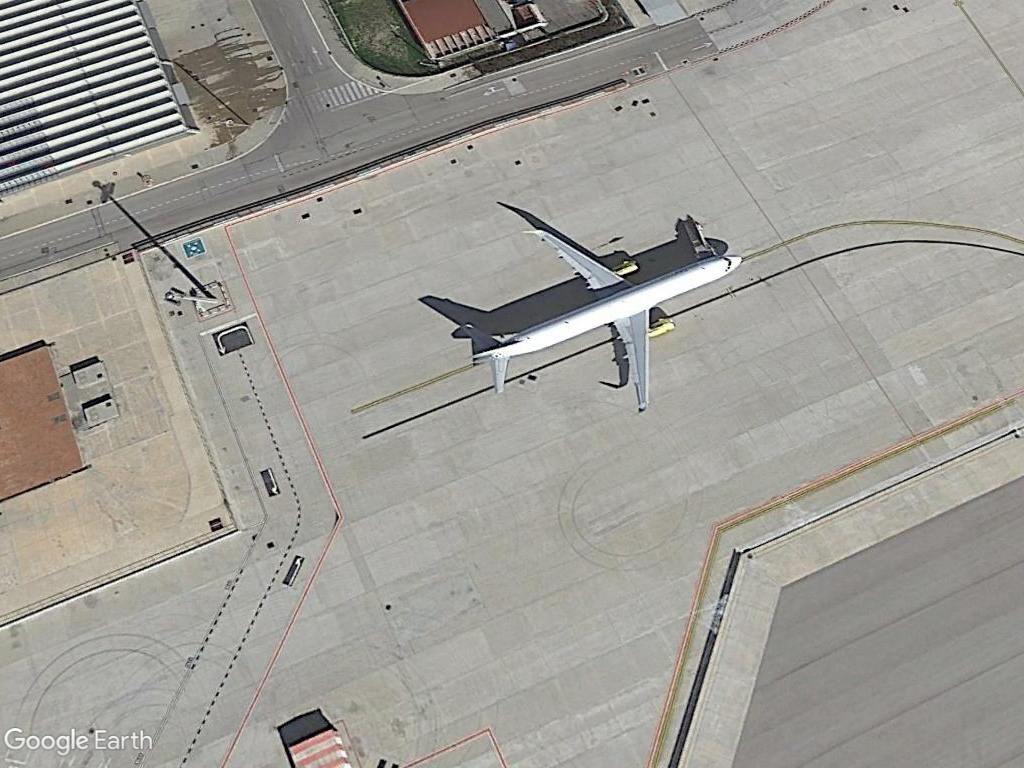airliner: (444, 226, 748, 417)
stairtruck: (678, 217, 717, 257)
